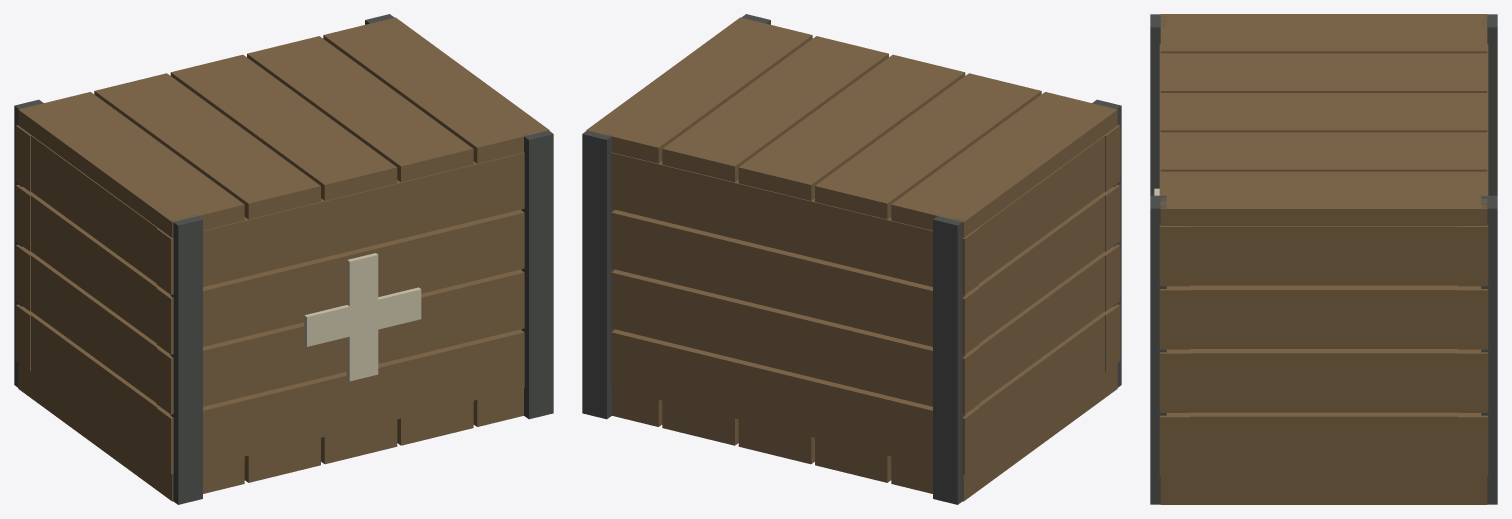
The model's file is supply-crate.glb.
3 renders of one model, left to right at view 1: azimuth 30°, elevation 25°; view 2: azimuth 150°, elevation 25°; view 3: azimuth 270°, elevation 25°, orthographic. The views are drawn at different scales.
Parts seen in each view (by area): view 1: 长侧板.016, 长侧板.019, 长侧板.018, 长侧板.017, 盖板0.002, 盖板2.002, 盖板1.002, 盖板3.002, 盖板4.002, 边框.008, 边框.009, 短侧板.016 (+15 smaller); view 2: 长侧板.020, 长侧板.022, 长侧板.021, 长侧板.023, 盖板0.002, 盖板2.002, 盖板1.002, 盖板3.002, 盖板4.002, 边框.010, 边框.011, 短侧板.016 (+13 smaller); view 3: 盖板4.002, 短侧板.021, 短侧板.022, 短侧板.020, 短侧板.023, 盖板1.002, 盖板3.002, 盖板2.002, 盖板0.002, 底板4.002, 边框.009, 边框.011 (+10 smaller).
Part boxes in pixels (x1,y1,x2,y2): 长侧板.016: (156, 329, 524, 474); 长侧板.019: (156, 152, 524, 294); 长侧板.018: (156, 209, 524, 354); 长侧板.017: (156, 269, 524, 414); 盖板0.002: (18, 92, 244, 237); 盖板2.002: (170, 54, 397, 200); 盖板1.002: (94, 73, 320, 219); 盖板3.002: (247, 36, 473, 182); 盖板4.002: (323, 17, 549, 163); 边框.008: (170, 215, 202, 504); 边框.009: (521, 130, 553, 419); 短侧板.016: (31, 314, 160, 462); 长侧板.020: (611, 329, 979, 474); 长侧板.022: (611, 209, 979, 354); 长侧板.021: (611, 269, 979, 414); 长侧板.023: (611, 152, 979, 294); 盖板0.002: (891, 92, 1117, 237); 盖板2.002: (738, 54, 965, 200); 盖板1.002: (815, 73, 1041, 219); 盖板3.002: (662, 36, 888, 182); 盖板4.002: (586, 17, 812, 163); 边框.010: (933, 214, 965, 504); 边框.011: (582, 130, 614, 419); 短侧板.016: (975, 314, 1104, 462); 盖板4.002: (1160, 171, 1487, 225); 短侧板.021: (1188, 349, 1458, 412); 短侧板.022: (1188, 285, 1459, 348); 短侧板.020: (1189, 412, 1459, 475); 短侧板.023: (1189, 226, 1458, 285); 盖板1.002: (1160, 53, 1487, 92); 盖板3.002: (1160, 132, 1487, 171); 盖板2.002: (1160, 93, 1487, 132); 盖板0.002: (1160, 14, 1487, 53); 底板4.002: (1160, 476, 1487, 504); 边框.009: (1150, 195, 1166, 504); 边框.011: (1481, 195, 1497, 504).
Bounding box in the file's own units: 1 × 0.7 × 0.745.
